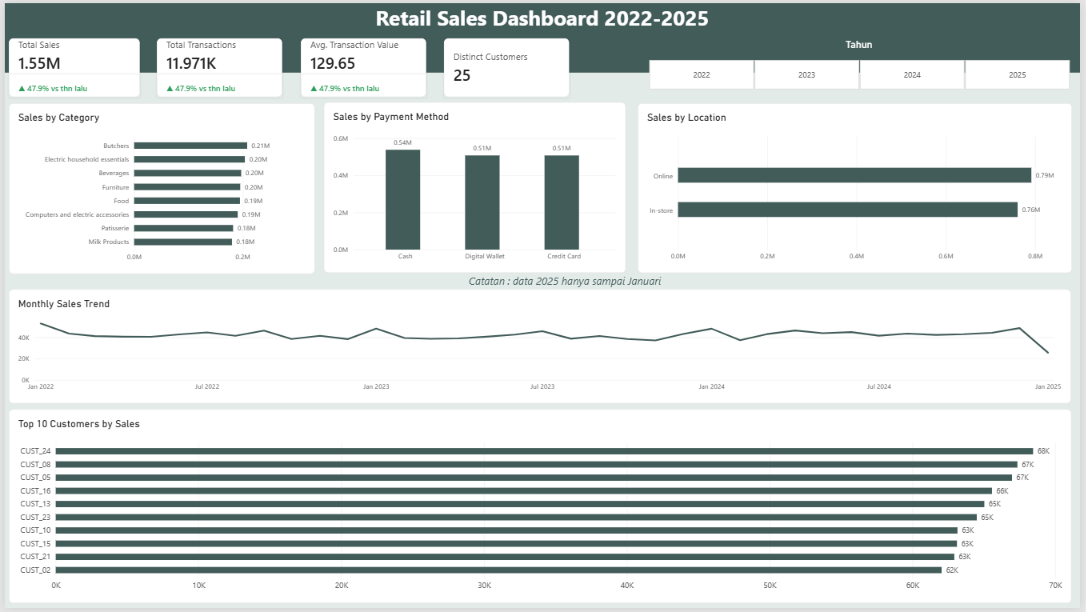

The page's visual inventory and layout, read from the dashboard file:
{"tool":"powerbi","page":{"name":"Page 1","canvas":[1920,1080],"ordinal":0},"visuals":[{"type":"shape","box":[0,0,1920,124],"z":0},{"type":"cardVisual","fields":{"Data":["Sum(FactSales.TotalSpent)"]},"box":[7.8,63.3,234.4,105.6],"z":1000},{"type":"cardVisual","fields":{"Data":["CountNonNull(FactSales.TransactionID)"]},"box":[272.2,62.2,224.4,105.6],"z":2000},{"type":"cardVisual","fields":{"Data":["Avg(FactSales.TotalSpent)"]},"box":[527.8,62.2,224.4,105.6],"z":3000},{"type":"cardVisual","fields":{"Data":["CountNonNull(DimCustomer.CustomerID)"]},"box":[783.3,62.2,224.4,105.6],"z":4000},{"type":"clusteredBarChart","title":"Sales by Category","fields":{"Category":["DimProduct.Category"],"Y":["Sum(FactSales.TotalSpent)"]},"box":[8,178,546,305],"z":5000},{"type":"clusteredColumnChart","title":"Sales by Payment Method","fields":{"Category":["DimPayment.PaymentMethod"],"Y":["Sum(FactSales.TotalSpent)"]},"box":[570,177,539,305],"z":6000},{"type":"lineChart","title":"Monthly Sales Trend","fields":{"Category":["DimDate.FullDate.Variation.Date Hierarchy.Year","DimDate.FullDate.Variation.Date Hierarchy.Month"],"Y":["Sum(FactSales.TotalSpent)"]},"box":[8,510,1897,204],"z":7000},{"type":"clusteredBarChart","title":"Top 10 Customers by Sales","fields":{"Category":["DimCustomer.CustomerID"],"Y":["Sum(FactSales.TotalSpent)"]},"box":[7.8,725.6,1897.8,346.7],"z":8000},{"type":"textbox","box":[0,0,1920,70],"z":9000},{"type":"textbox","box":[740.7,482.1,517.9,27.9],"z":10000},{"type":"slicer","title":"Tahun","fields":{"Values":["DimDate.YearNumber"]},"box":[1130,62.1,790,92.9],"z":11000},{"type":"clusteredBarChart","title":"Sales by Location","fields":{"Category":["DimPayment.Location"],"Y":["Sum(FactSales.TotalSpent)"]},"box":[1130,178.3,775,303.3],"z":12000}]}

Visuals, with their boxes in screenshot pixels (x1, y1, x2, y2), scaled from the page's 1920x1080 canvas onto the 1086x612 screenshot:
shape: (0,0,1085,70)
cardVisual - Sum(FactSales.TotalSpent): (4,36,137,96)
cardVisual - CountNonNull(FactSales.TransactionID): (154,35,281,95)
cardVisual - Avg(FactSales.TotalSpent): (299,35,425,95)
cardVisual - CountNonNull(DimCustomer.CustomerID): (443,35,570,95)
"Sales by Category" clusteredBarChart: (5,101,313,274)
"Sales by Payment Method" clusteredColumnChart: (322,100,627,273)
"Monthly Sales Trend" lineChart: (5,289,1078,405)
"Top 10 Customers by Sales" clusteredBarChart: (4,411,1078,608)
textbox: (0,0,1085,40)
textbox: (419,273,712,289)
"Tahun" slicer: (639,35,1085,88)
"Sales by Location" clusteredBarChart: (639,101,1078,273)
